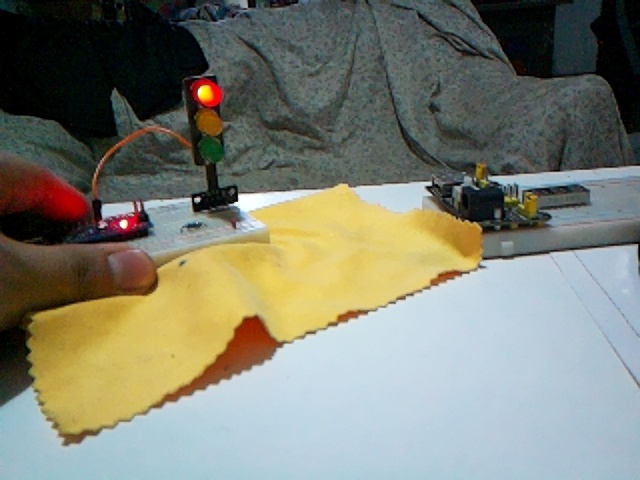traffic_light_red: (184, 74, 226, 166)
